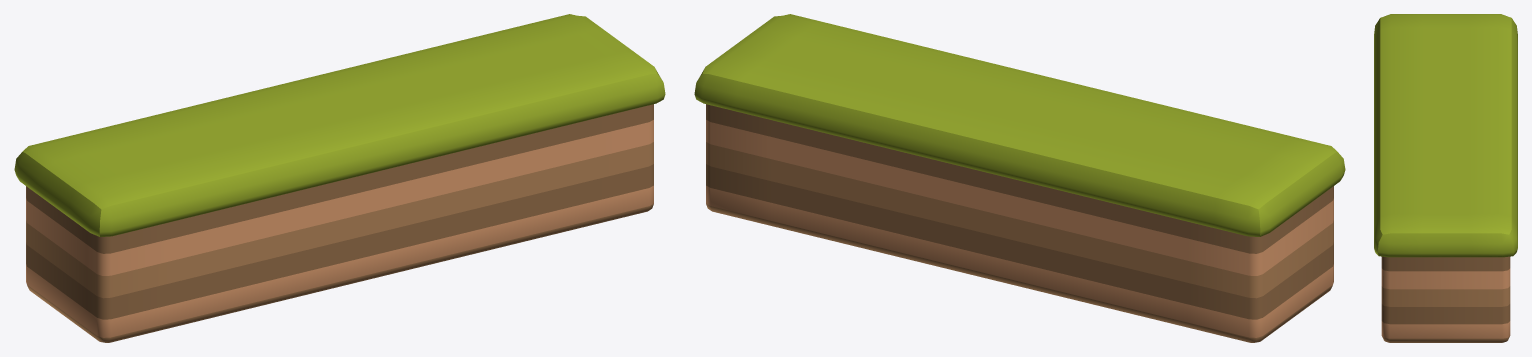
File: Cube_Grass_1x1End_001.gltf
3 renders of one model, left to right at view 1: azimuth 30°, elevation 25°; view 2: azimuth 150°, elevation 25°; view 3: azimuth 270°, elevation 25°, orthographic. The views are drawn at different scales.
Visible parts, largest first — view 1: Cube_Grass_1x1End.001; view 2: Cube_Grass_1x1End.001; view 3: Cube_Grass_1x1End.001.
Boxes of the visible parts, x1,y1,x2,y2 form: Cube_Grass_1x1End.001: [14, 14, 665, 342]; Cube_Grass_1x1End.001: [694, 14, 1345, 342]; Cube_Grass_1x1End.001: [1374, 14, 1517, 342].
Bounding box in the file's own units: 8.23 × 2 × 2.23.
